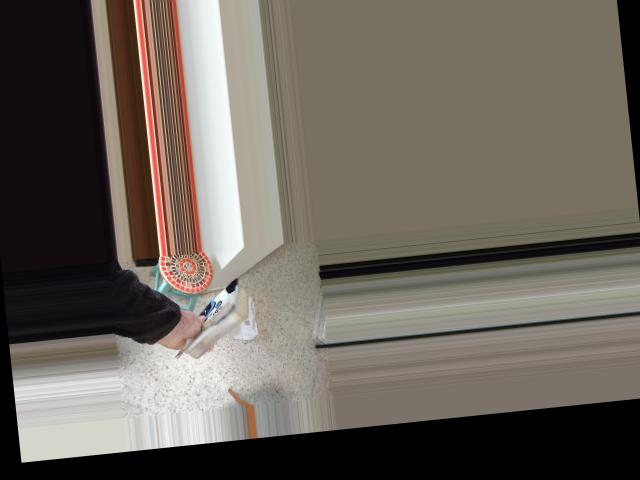cheese: (152, 264, 268, 371)
